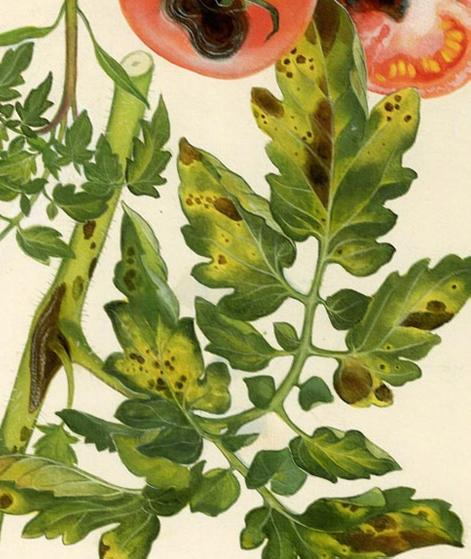Tomato Early blight leaf: (278, 0, 437, 269), (316, 248, 471, 421), (106, 214, 205, 446), (176, 145, 291, 318), (0, 440, 156, 559), (254, 493, 467, 559)
